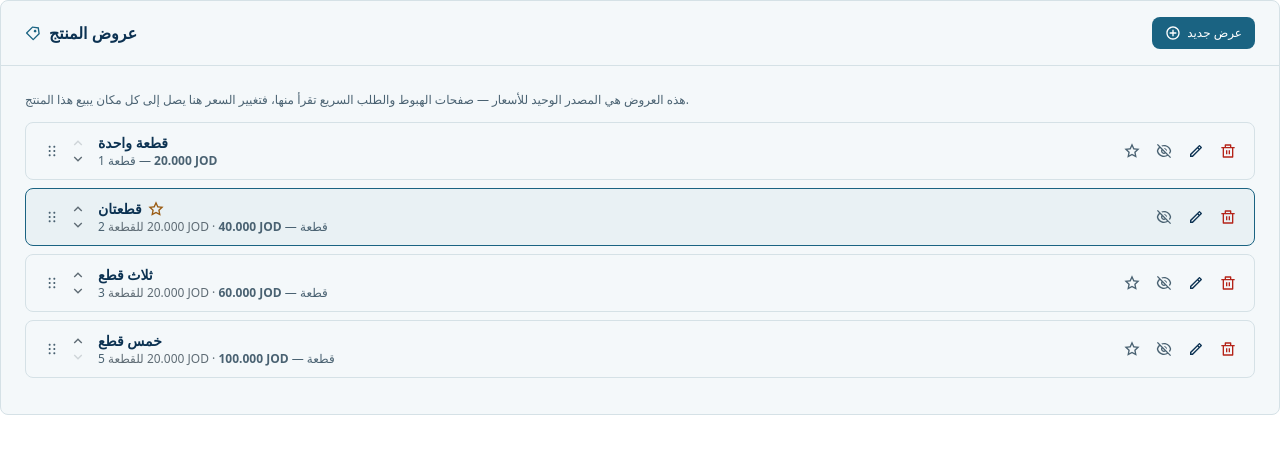
Test: the arrows go through the one move › and the next move that works clears the message — an old refusal is not left on a list that is now saved
The image size is (1280, 460).
Click the button named "لأسفل" below "قطعة واحدة".
click(78, 158)  # box [70, 150, 86, 166]
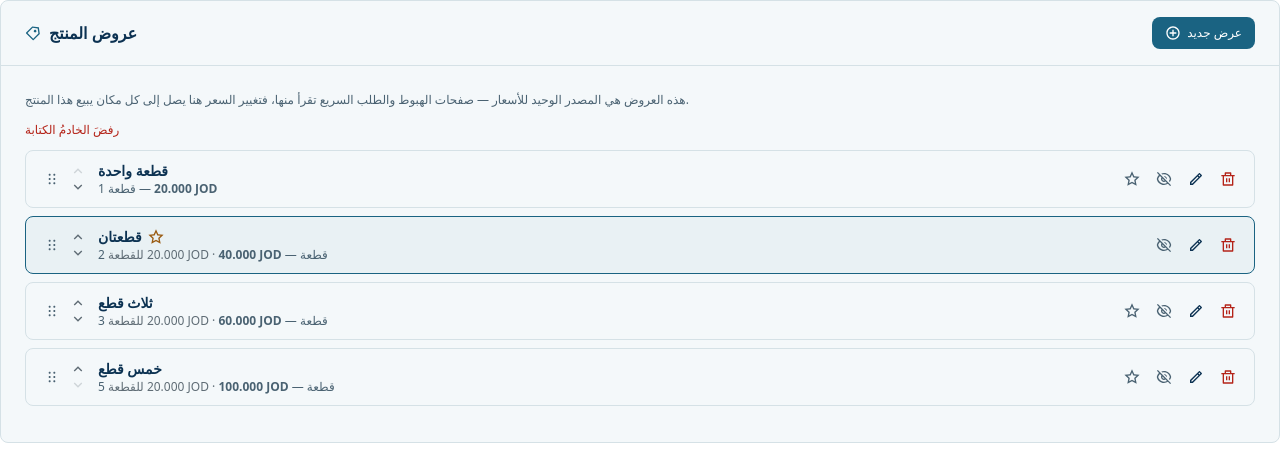
Expected: the text "رفضَ الخادمُ الكتابة" is shown, [25, 120, 119, 138]
Click the button named "لأسفل" below "ثلاث قطع".
click(78, 318)  # box [70, 310, 86, 326]
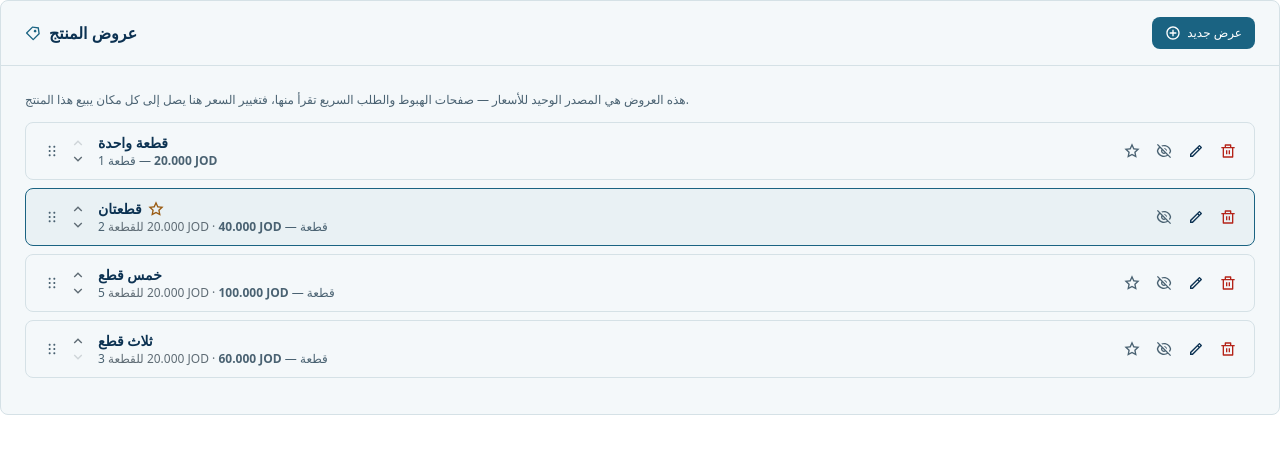
Expected: the text "رفضَ الخادمُ الكتابة" is gone
